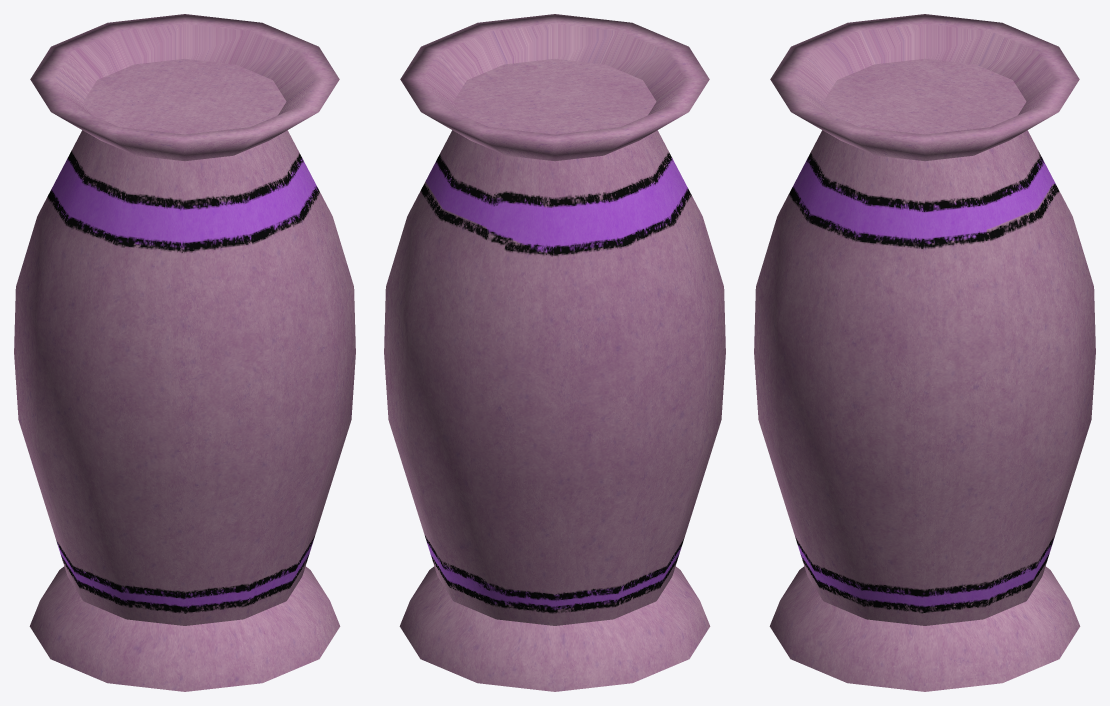
Rendered from 20s_Vase.fbx.
3 views of the same model, side by side, from view 1: azimuth 30°, elevation 25°; view 2: azimuth 150°, elevation 25°; view 3: azimuth 270°, elevation 25° (orthographic).
Parts seen in each view (by area): view 1: 20s_Vase; view 2: 20s_Vase; view 3: 20s_Vase.
Boxes of the visible parts, x1=… form: 20s_Vase: x1=14, y1=14, x2=355, y2=691; 20s_Vase: x1=384, y1=14, x2=725, y2=691; 20s_Vase: x1=754, y1=14, x2=1095, y2=691.
Bounding box in the file's own units: 54.99 × 97.06 × 54.99.
1 material, 1 textured.
